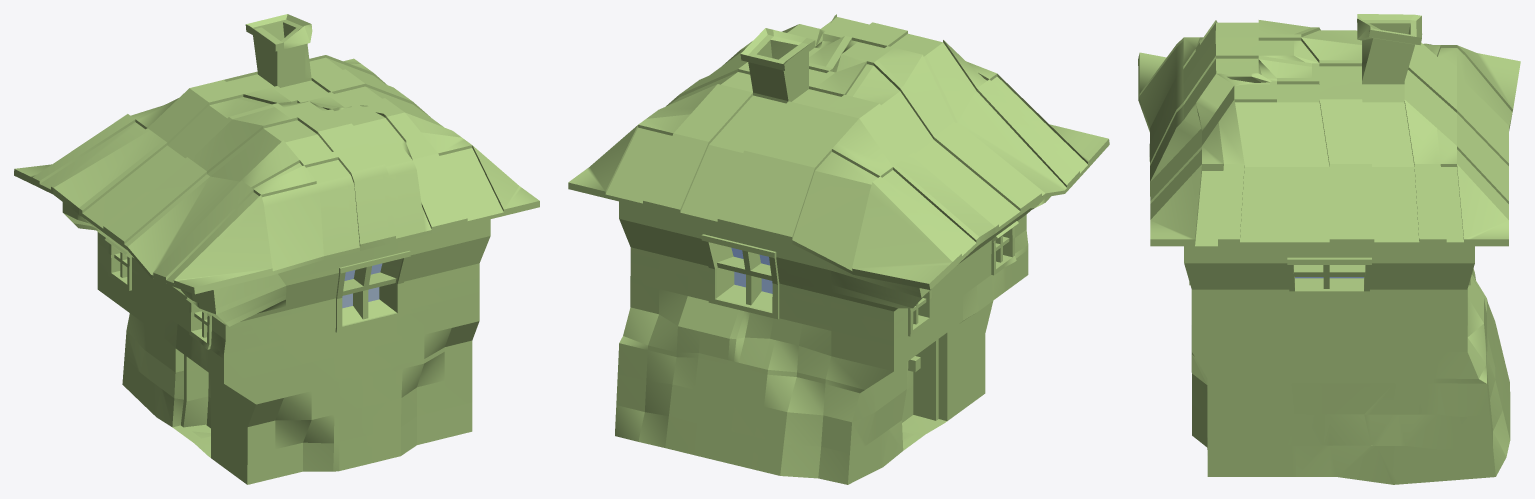
File: Hus 3.fbx
3 views of the same model, side by side, from view 1: azimuth 30°, elevation 25°; view 2: azimuth 150°, elevation 25°; view 3: azimuth 270°, elevation 25° (orthographic). The views are drawn at different scales.
Visible parts, largest first — view 1: pCube2; view 2: pCube2; view 3: pCube2.
Part boxes in pixels (x1,y1,x2,y2): pCube2: (14,14,539,484); pCube2: (568,14,1109,484); pCube2: (1138,14,1520,484).
Bounding box in the file's own units: 874 × 893 × 749.
